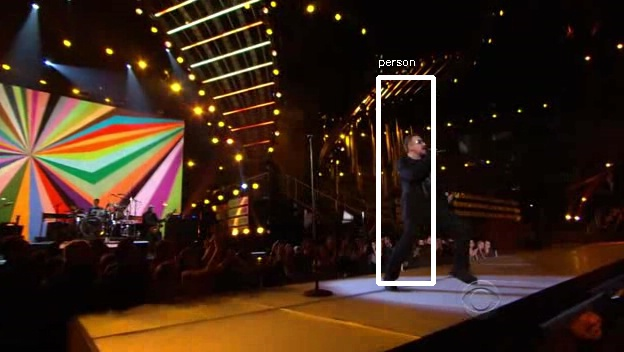person: (396, 138, 455, 241), (393, 138, 452, 241), (399, 138, 458, 241), (396, 135, 455, 238), (396, 141, 455, 244)
target_negative: (142, 159, 506, 324), (461, 18, 549, 324), (291, 283, 557, 337), (212, 76, 253, 234), (27, 338, 428, 352), (30, 306, 429, 310)
